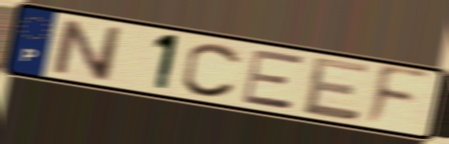1: (147, 32, 183, 95)
C: (179, 40, 245, 100)
E: (301, 54, 372, 123), (240, 48, 306, 112)
F: (361, 63, 433, 129)
N: (50, 16, 124, 84)
